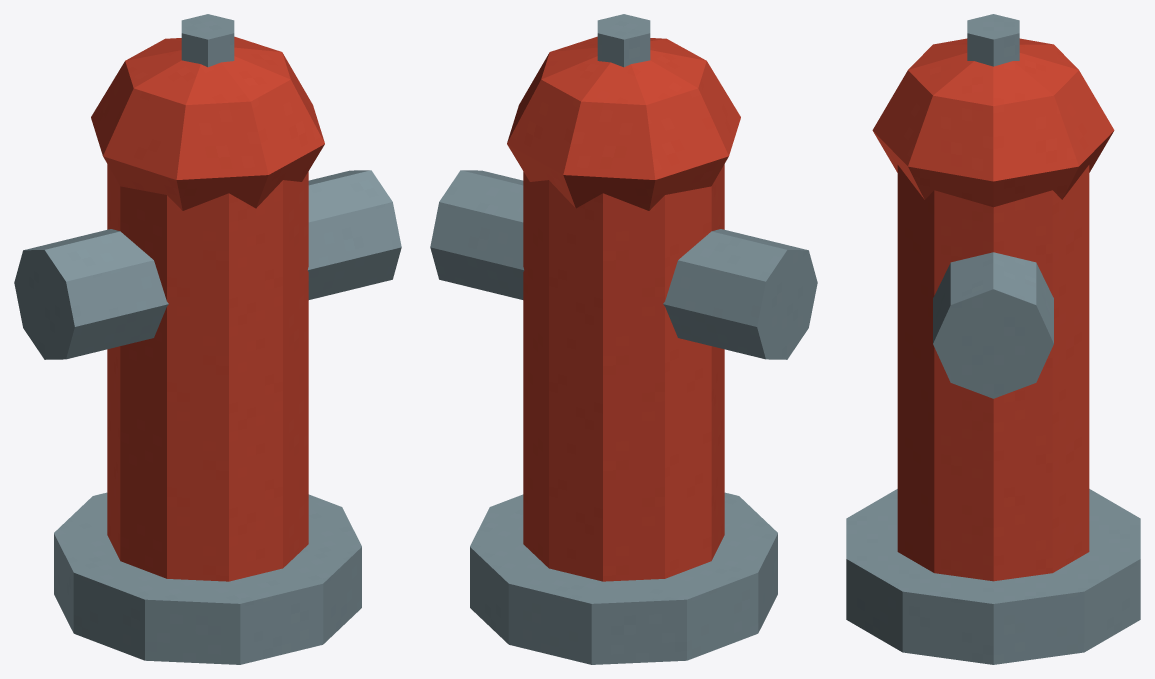
The model's file is fire-hydrant.glb.
The picture shows the model from 3 angles, left to right: view 1: azimuth 30°, elevation 25°; view 2: azimuth 150°, elevation 25°; view 3: azimuth 270°, elevation 25°; orthographic projection.
Parts seen in each view (by area): view 1: Hydrant body 002, Hydrant base 001, Hydrant cap 003, Hose outlet 004, Hose outlet 005, Top operating nut 006; view 2: Hydrant body 002, Hydrant base 001, Hydrant cap 003, Hose outlet 004, Hose outlet 005, Top operating nut 006; view 3: Hydrant body 002, Hydrant base 001, Hydrant cap 003, Hose outlet 005, Top operating nut 006.
Boxes of the visible parts, x1,y1,x2,y2 form: Hydrant body 002: (107,164,308,581); Hydrant base 001: (54,492,361,664); Hydrant cap 003: (91,36,324,210); Hose outlet 004: (14,229,168,359); Hose outlet 005: (307,170,401,299); Top operating nut 006: (181,14,234,67); Hydrant body 002: (523,164,724,581); Hydrant base 001: (470,492,777,664); Hydrant cap 003: (507,36,740,210); Hose outlet 004: (663,229,817,359); Hose outlet 005: (430,170,524,299); Top operating nut 006: (597,14,650,67); Hydrant body 002: (897,165,1089,581); Hydrant base 001: (846,489,1140,664); Hydrant cap 003: (872,38,1114,207); Hose outlet 005: (933,252,1053,398); Top operating nut 006: (967,14,1019,66).
Size of the model in its own units: 0.56 by 0.94 by 0.4375.
2 materials, 2 textured.
